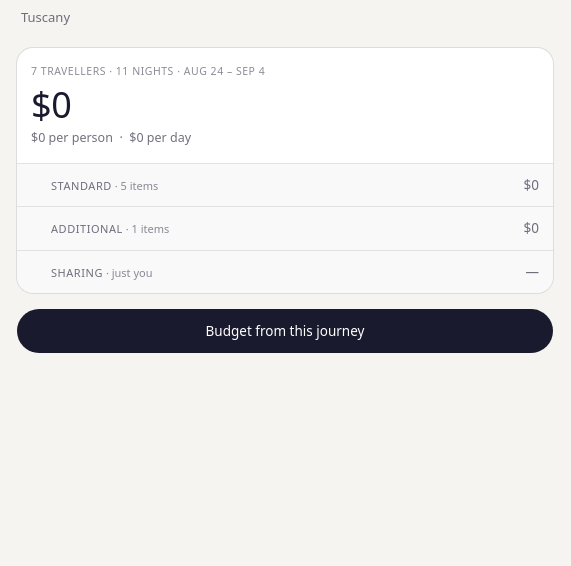
Test case: Budget saves as you go › keeps contingency and points inside the Additional group
The width and height of the screenshot is (571, 566).
Click the text "Additional".
click(87, 229)  # box [51,221,169,236]
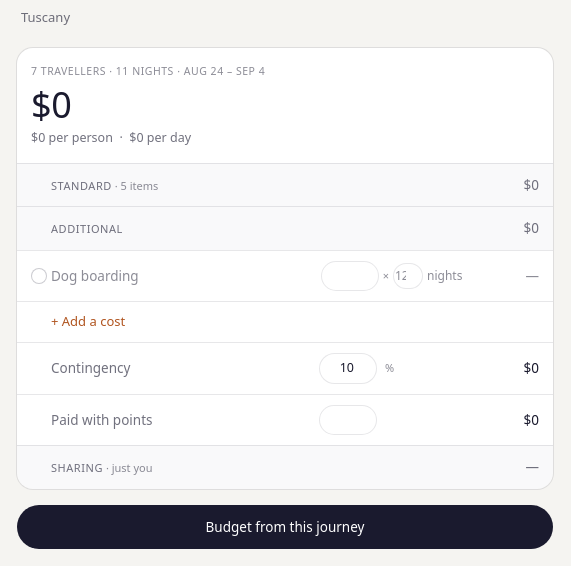
Expected: the number field named "Contingency percent" is shown, [319,353,377,384]
